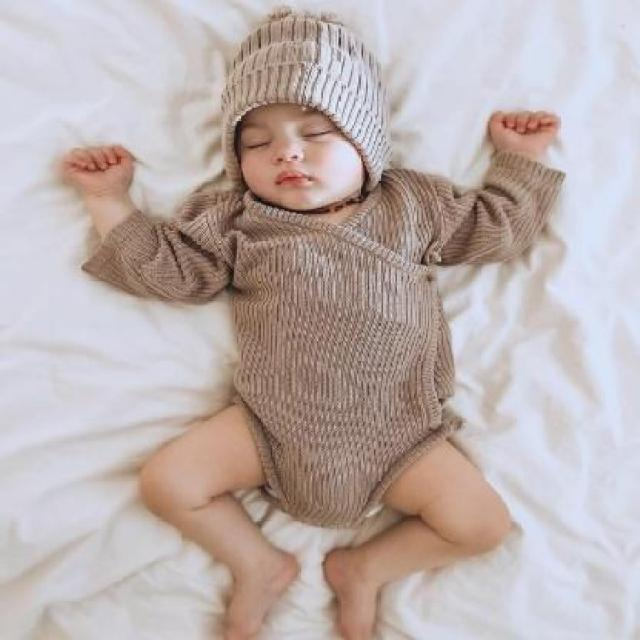baby: (58, 11, 564, 638)
